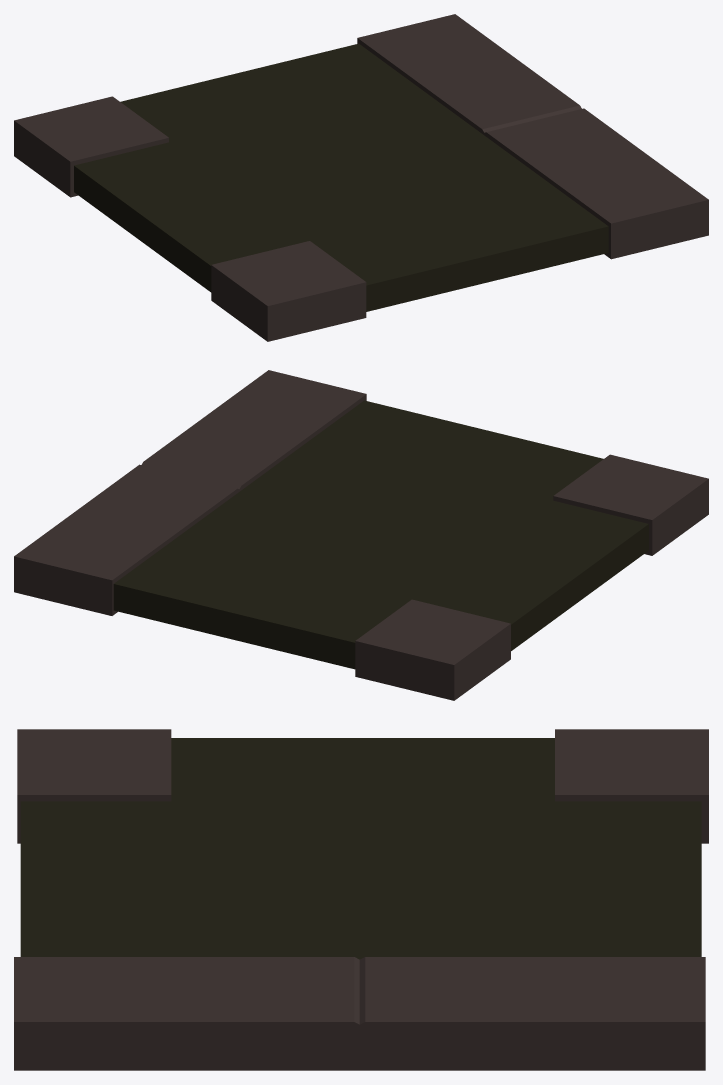
File: TStreet.fbx
3 views of the same model, one above another, from view 1: azimuth 30°, elevation 25°; view 2: azimuth 150°, elevation 25°; view 3: azimuth 270°, elevation 25° (orthographic). The views are drawn at different scales.
Parts seen in each view (by area): view 1: Cube.007_Cube.791; view 2: Cube.007_Cube.791; view 3: Cube.007_Cube.791.
Part boxes in pixels (x1,y1,x2,y2): Cube.007_Cube.791: (14, 14, 708, 341); Cube.007_Cube.791: (14, 370, 708, 700); Cube.007_Cube.791: (14, 729, 708, 1070).
Size of the model in its own units: 5.82 by 0.4516 by 5.84.
Materials: 1 (1 with a texture image).
